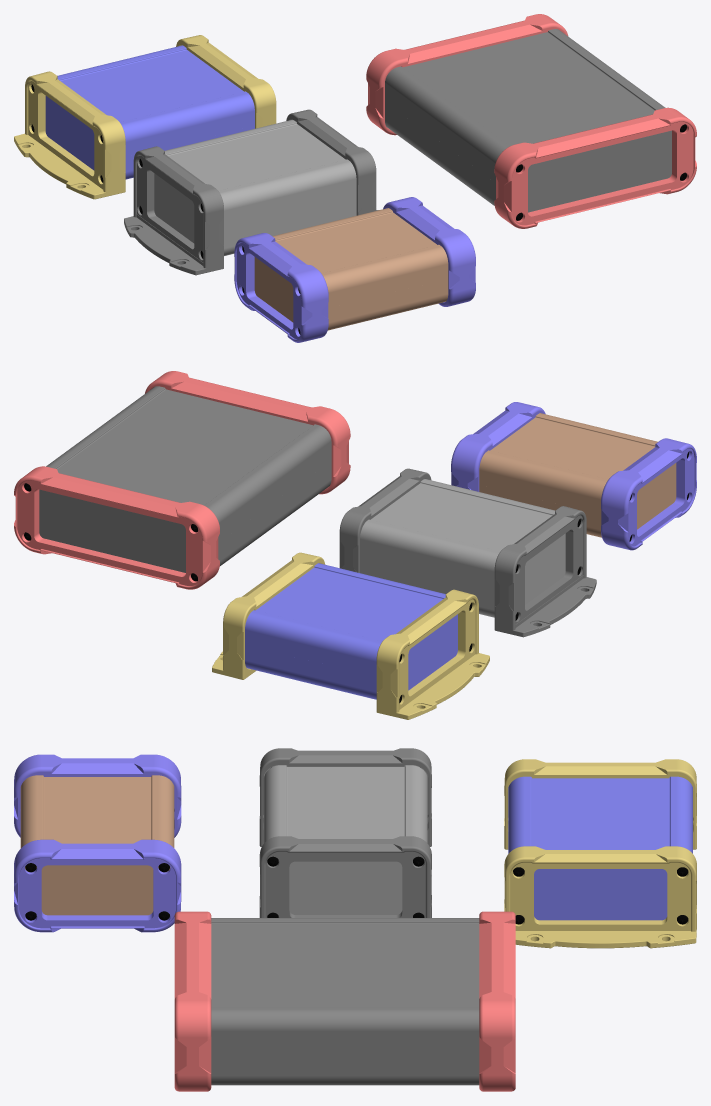
3 renders of one model, top to bottom at view 1: azimuth 30°, elevation 25°; view 2: azimuth 150°, elevation 25°; view 3: azimuth 270°, elevation 25°, orthographic. The views are drawn at different scales.
Visible parts, largest first — view 1: SC-FT120x40-10_B, SC-FT120x40-30_黑色 (×2), SC-FT90x35-10_B, SC-FT80x40-10_B, SC-FT75x35-10_B, SC-FT90x35-30_深蓝色 (×2), SC-FT80x40-30_深蓝色 (×2), SC-FT75x35-30_黑色 (×2), SC-FT120x40-20_A, SC-FT75x35-10_A, SC-FT120x40-10_A, SC-FT80x40-10_A (+4 smaller); view 2: SC-FT120x40-10_B, SC-FT120x40-30_黑色 (×2), SC-FT90x35-10_B, SC-FT80x40-10_B, SC-FT90x35-30_深蓝色 (×2), SC-FT75x35-10_B, SC-FT80x40-30_深蓝色 (×2), SC-FT75x35-30_黑色 (×2), SC-FT120x40-20_B, SC-FT90x35-10_A, SC-FT120x40-10_A, SC-FT80x40-10_A (+4 smaller); view 3: SC-FT120x40-10_B, SC-FT90x35-30_深蓝色 (×2), SC-FT120x40-30_黑色 (×2), SC-FT90x35-10_B, SC-FT75x35-30_黑色 (×2), SC-FT80x40-10_B, SC-FT80x40-30_深蓝色 (×2), SC-FT75x35-10_B, SC-FT120x40-10_A, SC-FT90x35-20_A, SC-FT80x40-20_A, SC-FT75x35-20_A.
Boxes of the visible parts, x1,y1,x2,y2 form: SC-FT120x40-10_B: (385, 29, 665, 182); SC-FT120x40-30_黑色 (×2): (366, 14, 696, 228); SC-FT90x35-10_B: (57, 45, 254, 156); SC-FT80x40-10_B: (164, 119, 356, 229); SC-FT75x35-10_B: (273, 208, 448, 307); SC-FT90x35-30_深蓝色 (×2): (14, 35, 276, 199); SC-FT80x40-30_深蓝色 (×2): (124, 109, 378, 275); SC-FT75x35-30_黑色 (×2): (234, 197, 475, 342); SC-FT120x40-20_A: (528, 130, 671, 212); SC-FT75x35-10_A: (327, 279, 448, 330); SC-FT120x40-10_A: (385, 102, 495, 205); SC-FT80x40-10_A: (224, 197, 356, 255); SC-FT120x40-10_B: (46, 386, 331, 542); SC-FT120x40-30_黑色 (×2): (14, 371, 350, 589); SC-FT90x35-10_B: (245, 563, 445, 676); SC-FT80x40-10_B: (360, 479, 554, 590); SC-FT90x35-30_深蓝色 (×2): (212, 552, 489, 719); SC-FT75x35-10_B: (479, 413, 657, 514); SC-FT80x40-30_深蓝色 (×2): (339, 468, 596, 637); SC-FT75x35-30_黑色 (×2): (451, 402, 696, 550); SC-FT120x40-20_B: (39, 489, 185, 572); SC-FT90x35-10_A: (245, 645, 376, 699); SC-FT120x40-10_A: (218, 460, 331, 565); SC-FT80x40-10_A: (360, 558, 494, 617); SC-FT120x40-10_B: (211, 918, 479, 1053); SC-FT90x35-30_深蓝色 (×2): (504, 759, 696, 948); SC-FT120x40-30_黑色 (×2): (174, 911, 515, 1091); SC-FT90x35-10_B: (508, 776, 692, 853); SC-FT75x35-30_黑色 (×2): (14, 754, 181, 932); SC-FT80x40-10_B: (264, 765, 427, 842); SC-FT80x40-30_深蓝色 (×2): (259, 748, 431, 917); SC-FT75x35-10_B: (20, 775, 174, 872); SC-FT120x40-10_A: (211, 1053, 479, 1085); SC-FT90x35-20_A: (534, 869, 667, 920); SC-FT80x40-20_A: (289, 861, 402, 914); SC-FT75x35-20_A: (41, 865, 153, 915).
Size of the model in its own units: 0.3188 by 0.0478 by 0.3333.
Materials: 56 (12 with a texture image).
